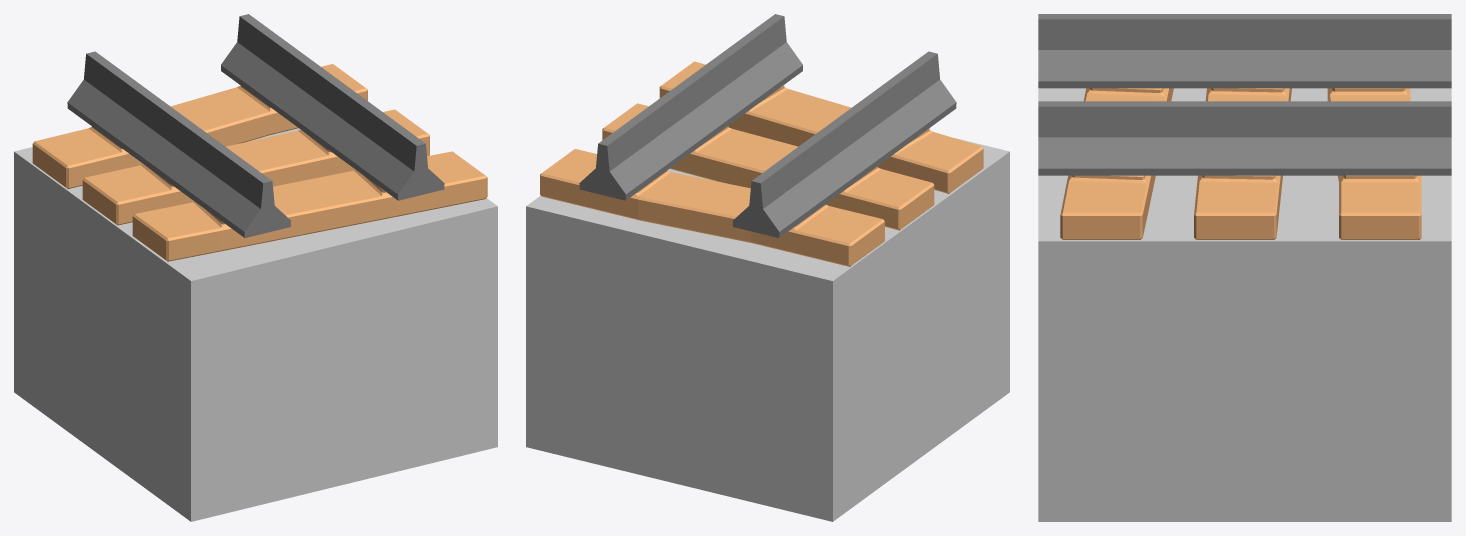
Rendered from Rail_Classique_001.fbx.
3 renders of one model, left to right at view 1: azimuth 30°, elevation 25°; view 2: azimuth 150°, elevation 25°; view 3: azimuth 270°, elevation 25°, orthographic. The views are drawn at different scales.
Visible parts, largest first — view 1: Rail Classique.001; view 2: Rail Classique.001; view 3: Rail Classique.001.
Boxes of the visible parts, x1,y1,x2,y2 form: Rail Classique.001: (14, 14, 497, 521); Rail Classique.001: (526, 14, 1009, 521); Rail Classique.001: (1038, 14, 1451, 521).
Bounding box in the file's own units: 100 × 100 × 100.
